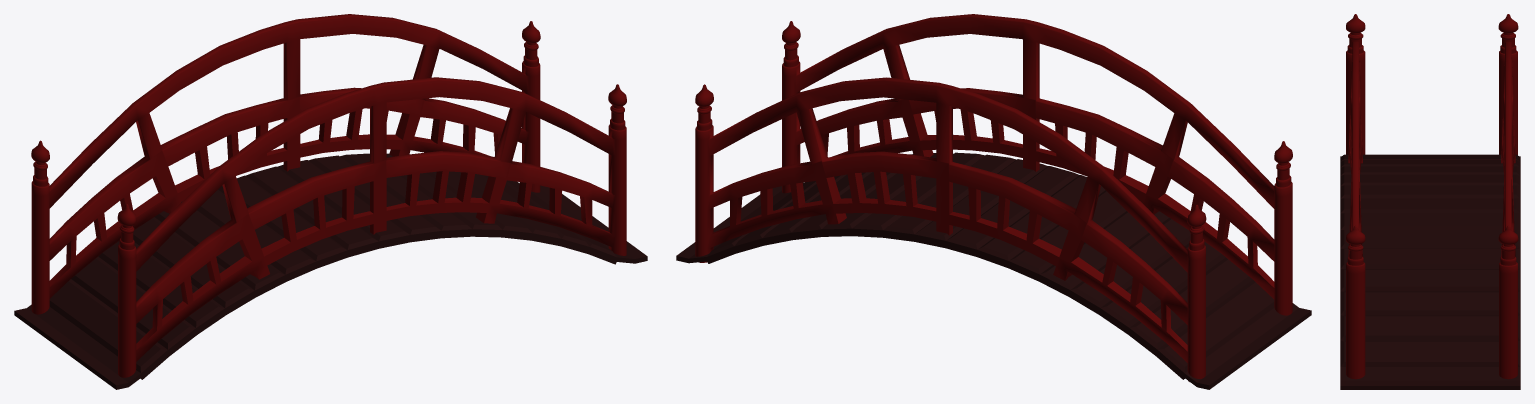
Rendered from bridge.FBX.
3 views of the same model, side by side, from view 1: azimuth 30°, elevation 25°; view 2: azimuth 150°, elevation 25°; view 3: azimuth 270°, elevation 25° (orthographic). The views are drawn at different scales.
Visible parts, largest first — view 1: Cylinder050; view 2: Cylinder050; view 3: Cylinder050.
Boxes of the visible parts, x1,y1,x2,y2 form: Cylinder050: (14,14,647,389); Cylinder050: (676,14,1311,389); Cylinder050: (1340,14,1520,389).
Bounding box in the file's own units: 526 × 221 × 175.
